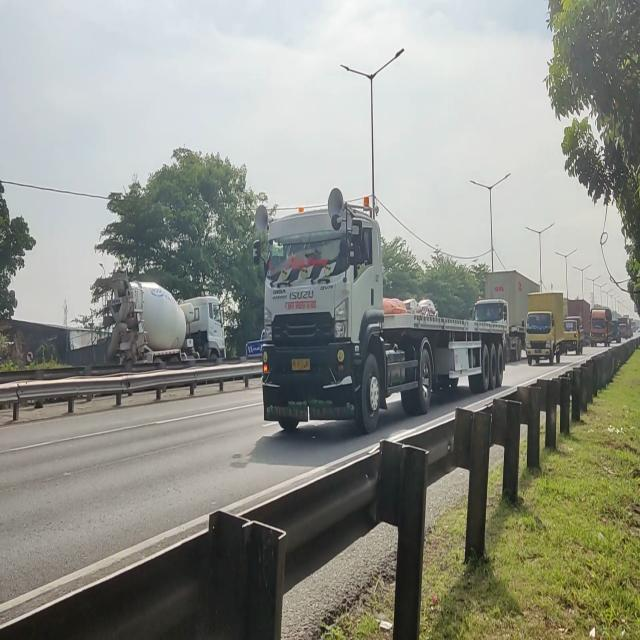Golongan V: (258, 215, 508, 439)
